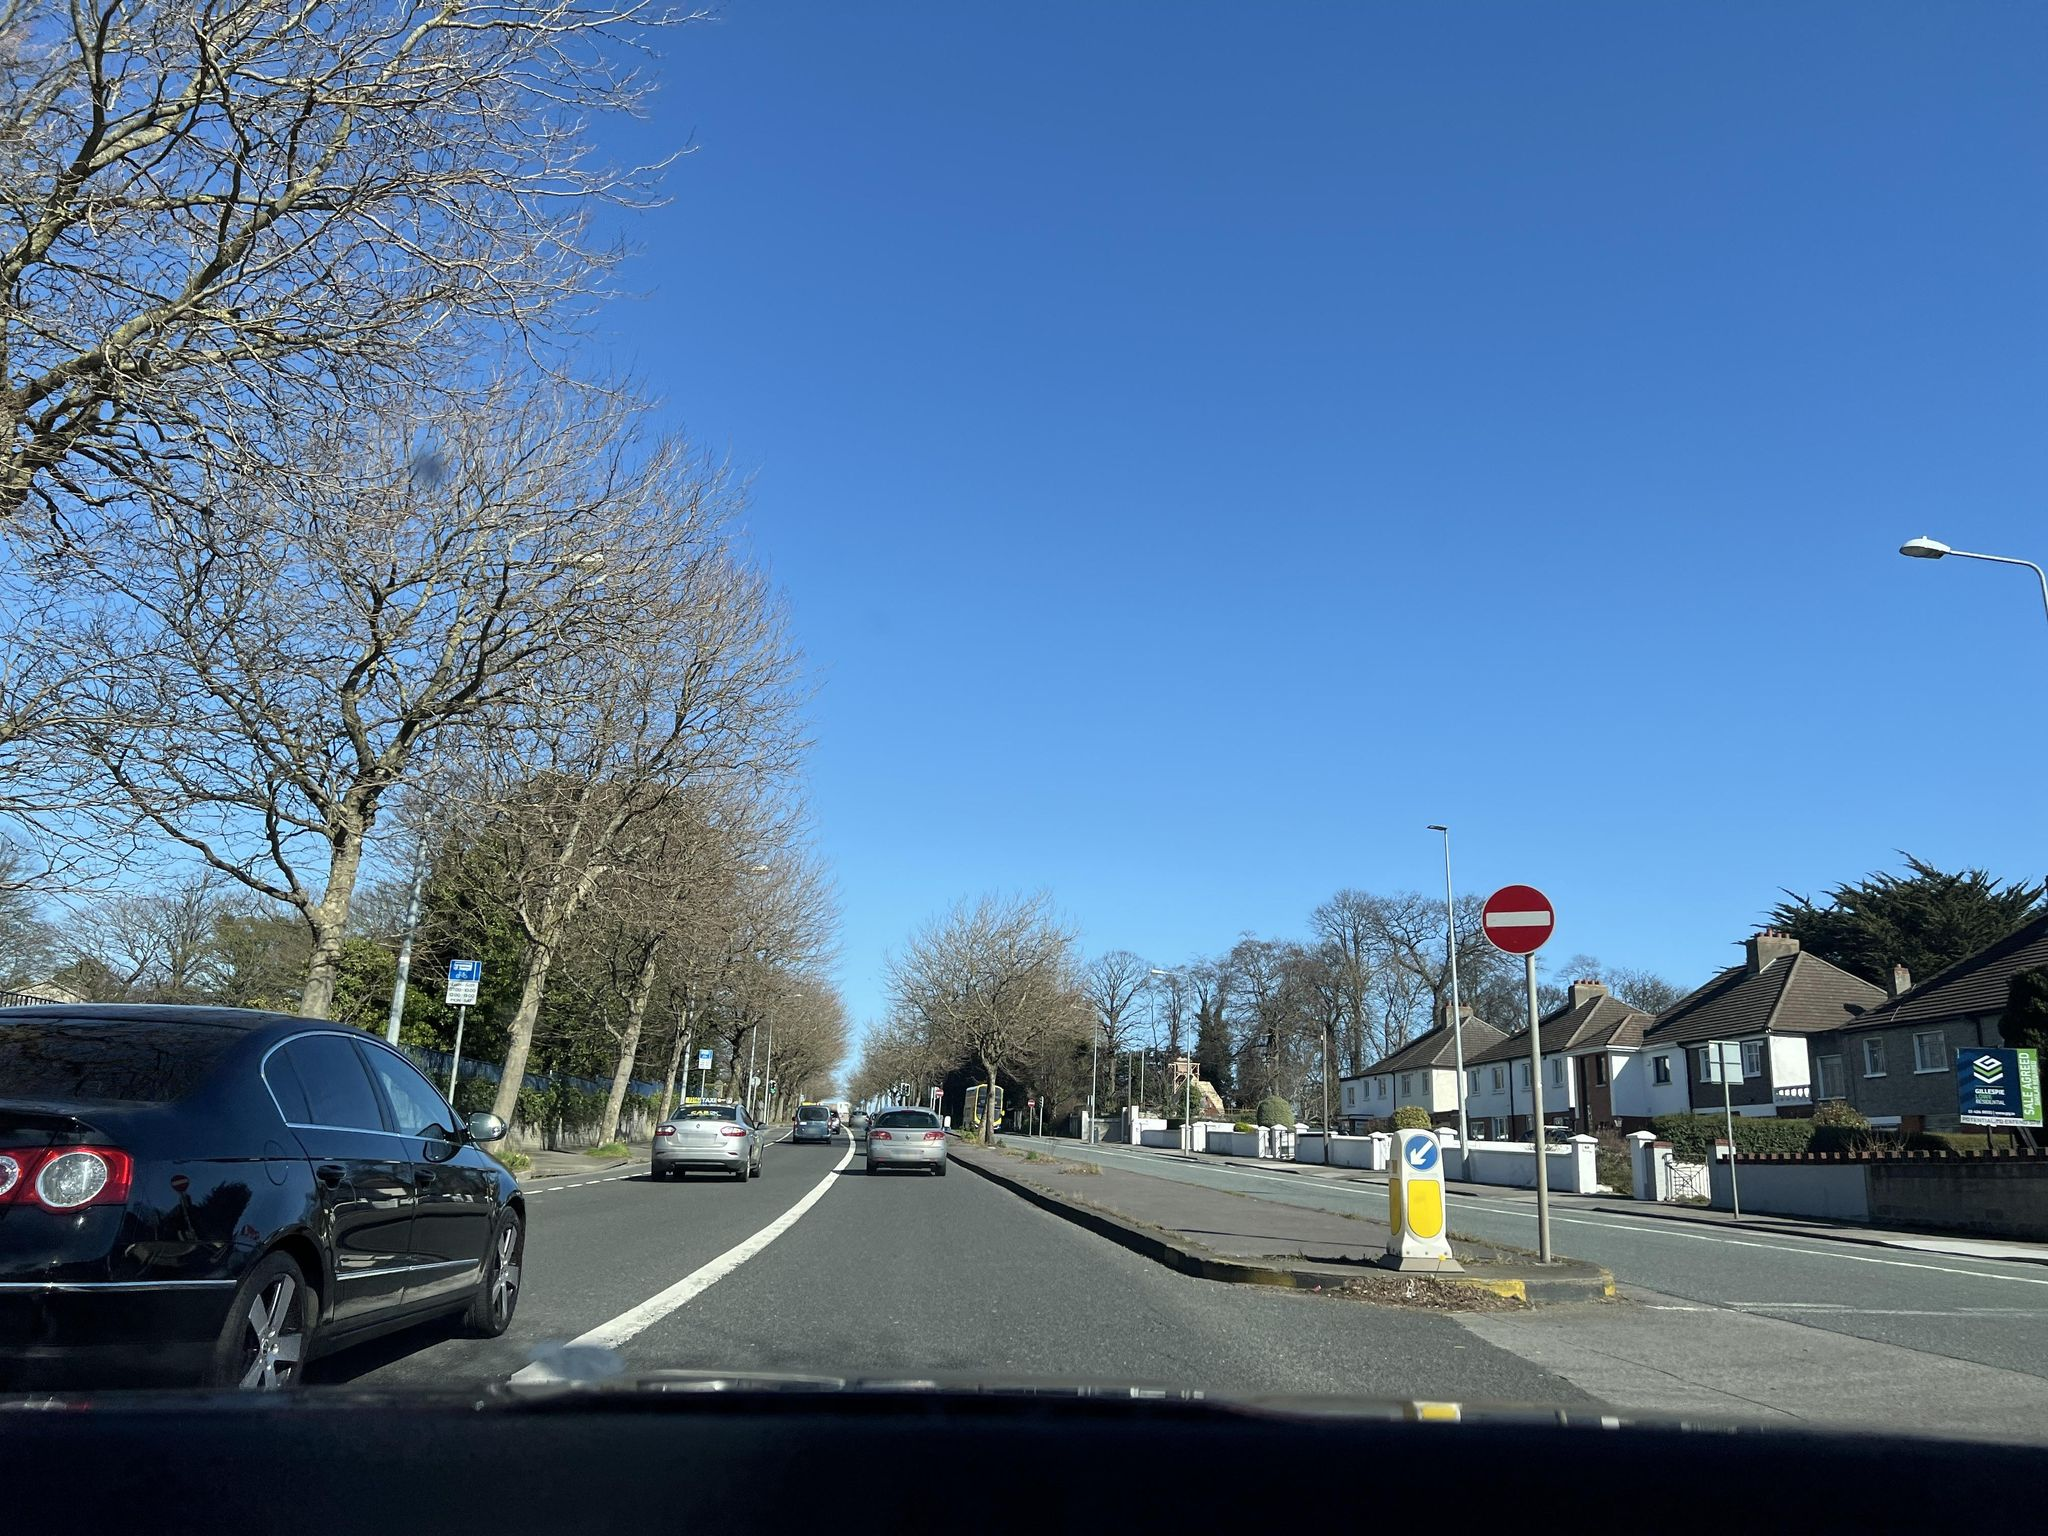property sign: (1938, 1028, 2048, 1146)
